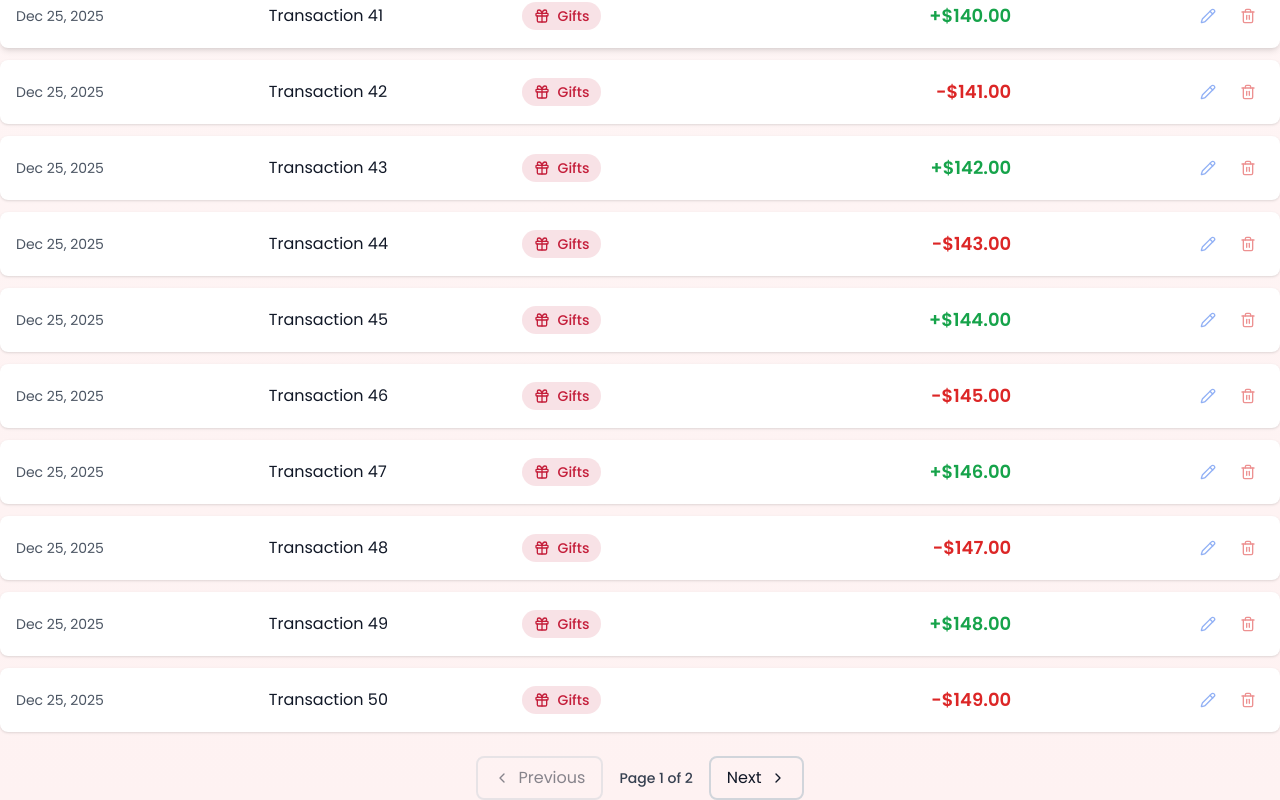
Test: TransactionList › should paginate transactions correctly
This screenshot has width=1280, height=800.
(page scrolled)
Check: the text "Transaction 51" is not shown
Click next page
Click the button with aria-label "Next page" at point(756, 778), box [709, 756, 804, 799]
(page scrolled)
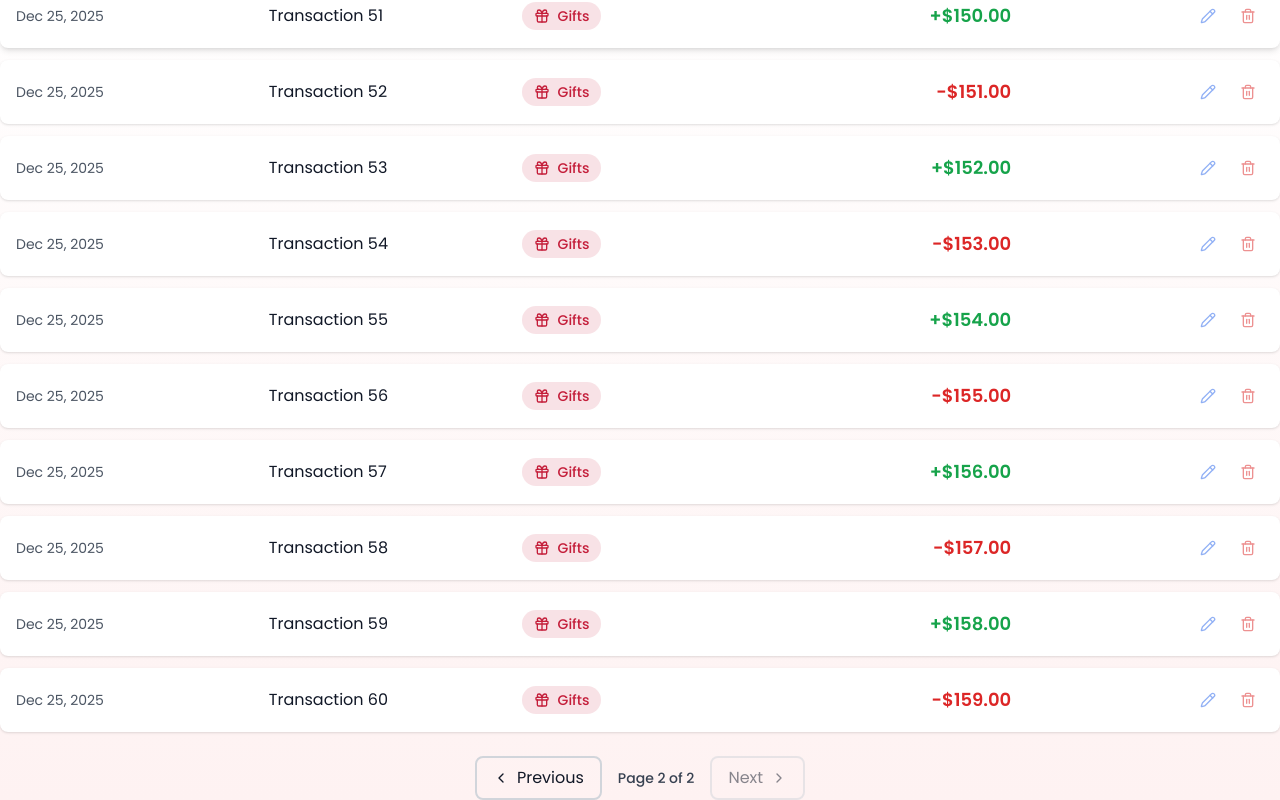
Check: the text "Transaction 51" is shown, box [269, 4, 383, 27]
